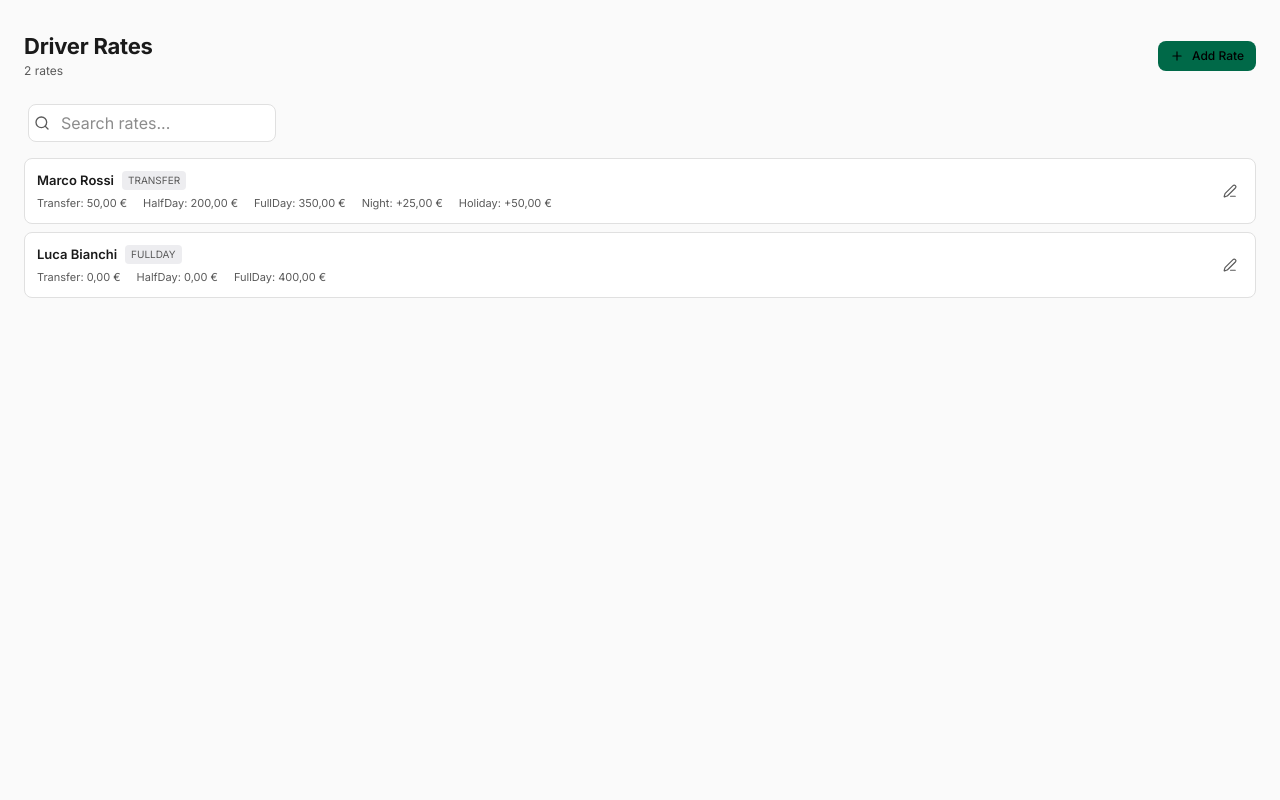
DriverRateScreen › opens edit modal for existing rate
Check: the text "Marco Rossi" is shown, box [37,171,114,190]
Note: Click edit button on first rate
Click the button titled "Edit" in the row of "Holiday: +". click: (1230, 191)
box: [1217,178,1243,204]
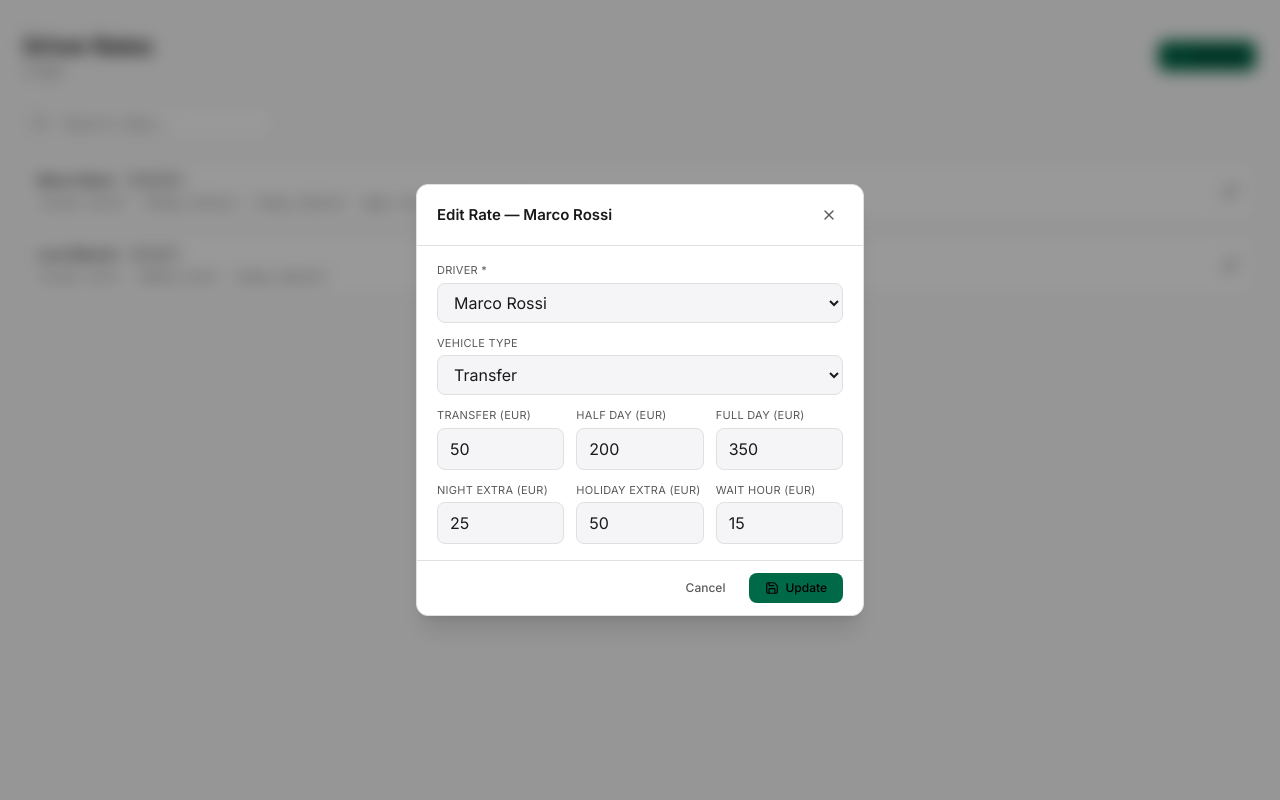
Check: the heading "Edit Rate — Marco Rossi" is shown, box [437,204,612,226]
Check: the button "Update" is shown, box [749,573,843,603]
